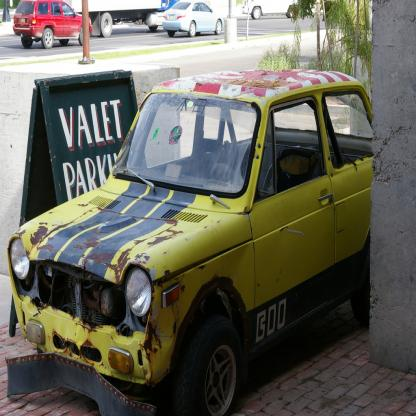Car: (7, 71, 376, 416), (14, 1, 93, 51), (164, 1, 225, 38)
